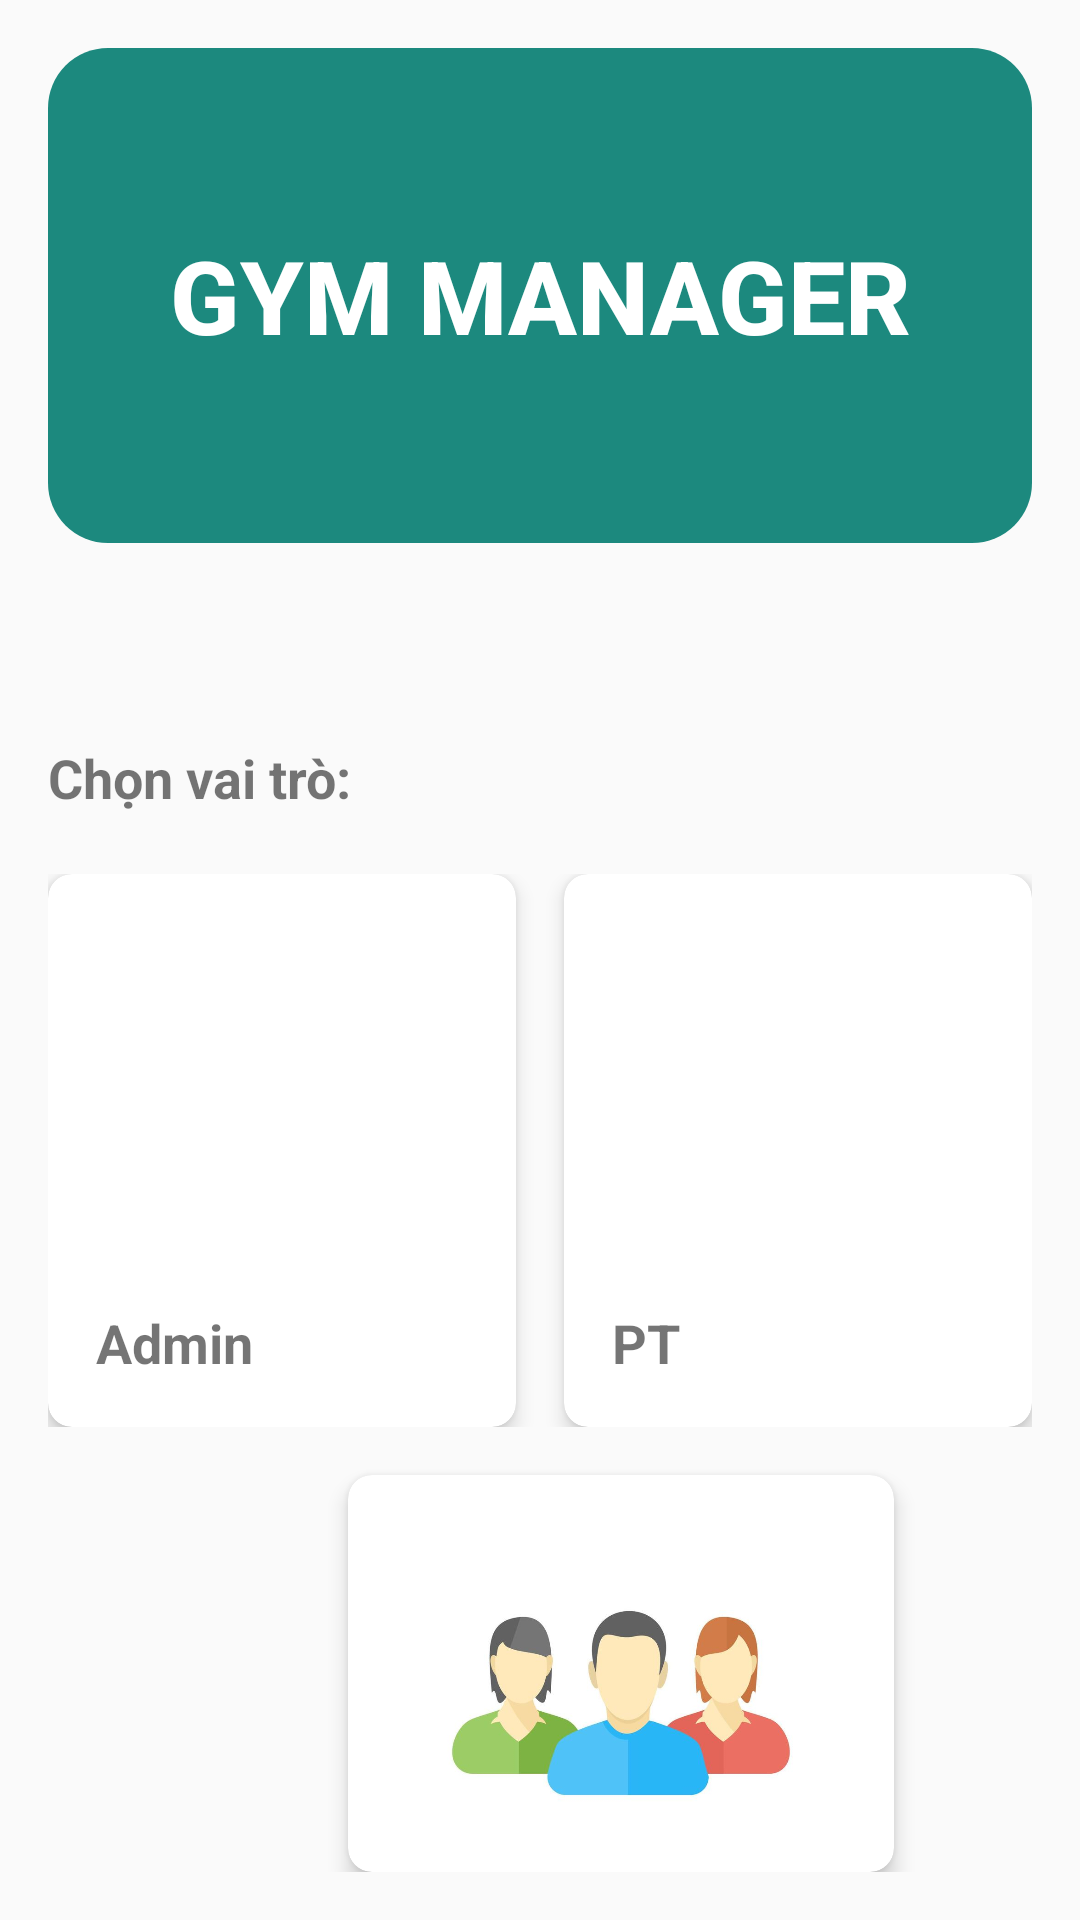

Screen size 1080 × 1920. Icon name, then its box in pixels as bbox=[x1, y1, x2, y2]:
customer: bbox=[452, 1611, 790, 1796]
